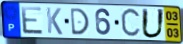6: (94, 8, 112, 38)
C: (120, 7, 142, 40)
D: (69, 8, 91, 37)
E: (19, 6, 45, 36)
K: (45, 6, 64, 36)
U: (140, 7, 166, 40)
